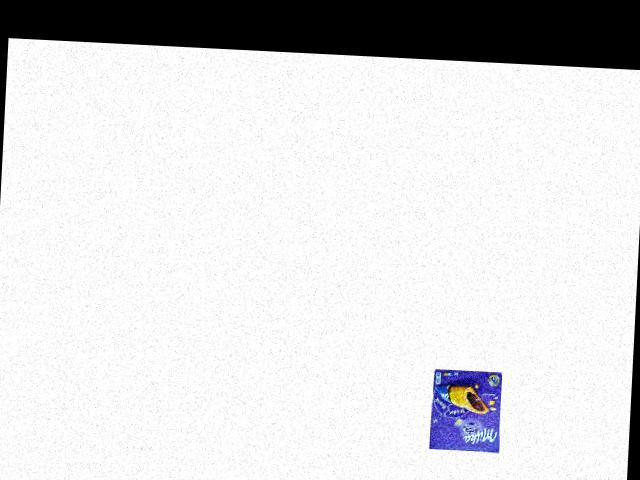chocolate: (426, 363, 507, 458)
